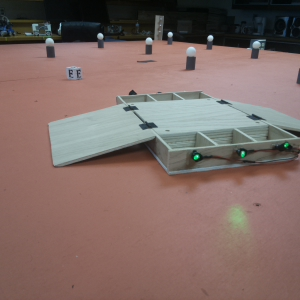blockE: (66, 66, 82, 81)
corner: (154, 15, 163, 40)
obstacle: (184, 46, 198, 72), (45, 38, 56, 58), (144, 37, 155, 54), (251, 41, 260, 60), (204, 34, 215, 49), (97, 32, 105, 50), (166, 31, 173, 47)
side: (165, 139, 300, 170)
slope: (49, 103, 156, 169), (222, 96, 300, 131)
start: (136, 58, 156, 65)
